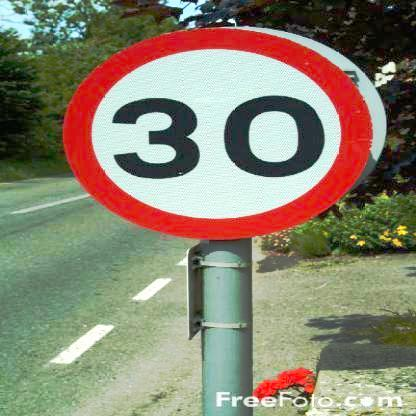Speed Limit -30-: (62, 23, 373, 242)
